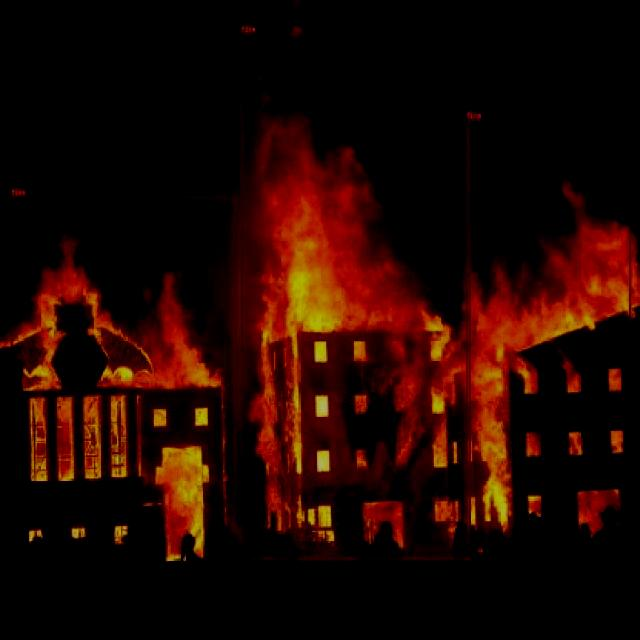fire: (240, 32, 471, 560), (11, 195, 237, 568), (466, 119, 631, 562)
